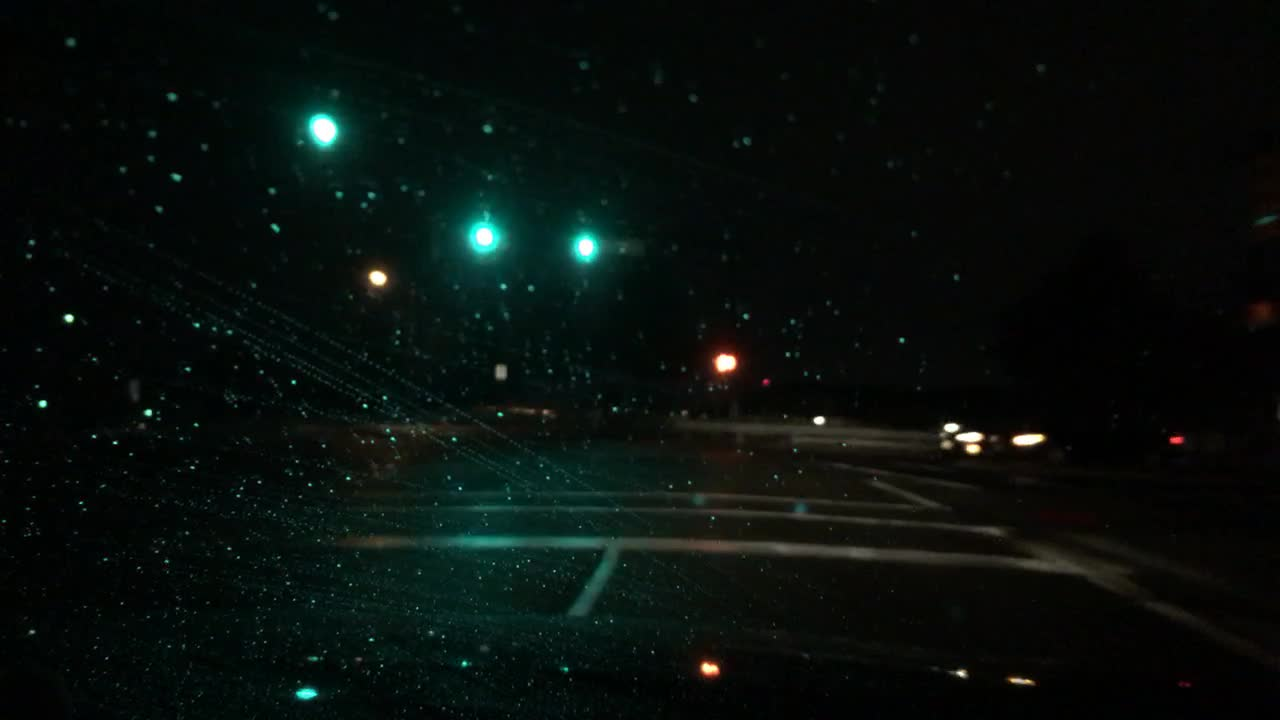car: (937, 390, 1064, 472), (476, 373, 606, 441), (614, 399, 671, 438)
traffic light: (298, 111, 343, 152), (466, 217, 505, 253), (563, 228, 602, 261), (359, 265, 397, 294), (710, 349, 744, 378)
